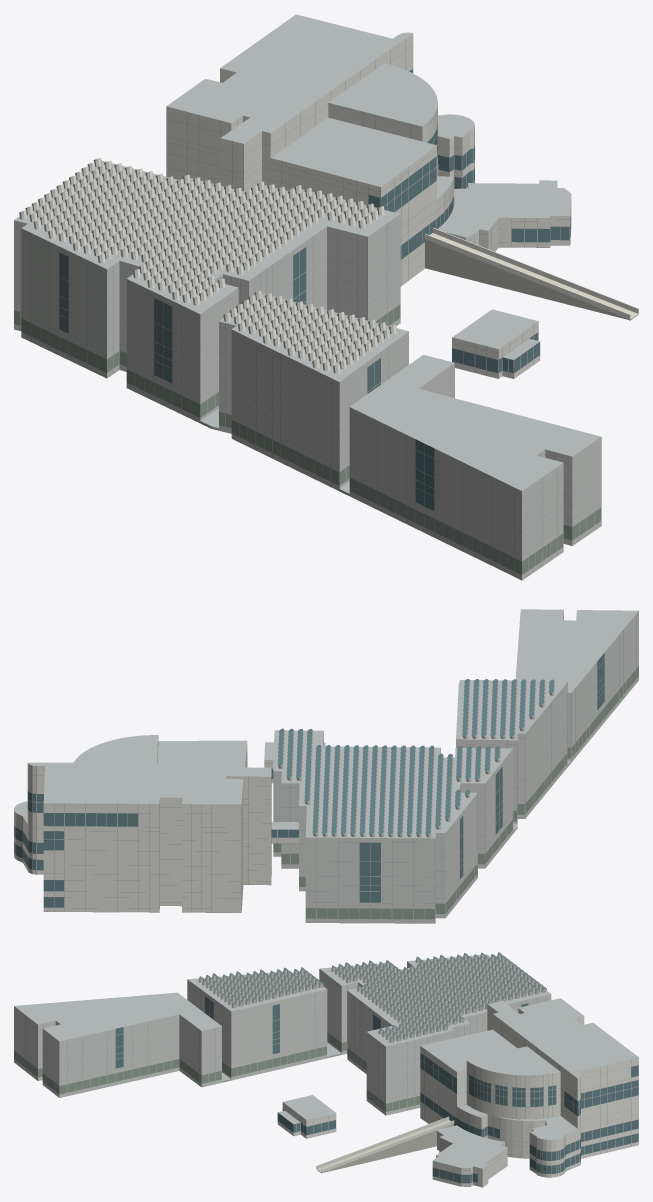
The model's file is high-museum-of-art-near.glb.
The picture shows the model from 3 angles, top to bottom: view 1: azimuth 30°, elevation 25°; view 2: azimuth 150°, elevation 25°; view 3: azimuth 270°, elevation 25°; orthographic projection. The views are drawn at different scales.
Parts seen in each view (by area): view 1: high-museum-of-art-0-aluminum, high-museum-of-art-0-white, high-museum-of-art-0-roof, high-museum-of-art-0-glass, high-museum-of-art-0-glow, high-museum-of-art-0-joint, high-museum-of-art-0-foundation, high-museum-of-art-0-path; view 2: high-museum-of-art-0-roof, high-museum-of-art-0-white, high-museum-of-art-0-aluminum, high-museum-of-art-0-glass, high-museum-of-art-0-joint, high-museum-of-art-0-glow; view 3: high-museum-of-art-0-white, high-museum-of-art-0-aluminum, high-museum-of-art-0-roof, high-museum-of-art-0-glass, high-museum-of-art-0-glow, high-museum-of-art-0-joint, high-museum-of-art-0-foundation, high-museum-of-art-0-path.
Boxes of the visible parts, x1=… form: high-museum-of-art-0-aluminum: x1=14, y1=214, x2=601, y2=579; high-museum-of-art-0-white: x1=19, y1=33, x2=638, y2=378; high-museum-of-art-0-roof: x1=14, y1=14, x2=600, y2=493; high-museum-of-art-0-glass: x1=59, y1=69, x2=570, y2=510; high-museum-of-art-0-glow: x1=14, y1=305, x2=601, y2=574; high-museum-of-art-0-joint: x1=14, y1=38, x2=601, y2=580; high-museum-of-art-0-foundation: x1=200, y1=239, x2=638, y2=495; high-museum-of-art-0-path: x1=430, y1=233, x2=637, y2=318; high-museum-of-art-0-roof: x1=14, y1=609, x2=638, y2=838; high-museum-of-art-0-white: x1=14, y1=681, x2=555, y2=912; high-museum-of-art-0-aluminum: x1=273, y1=611, x2=638, y2=923; high-museum-of-art-0-glass: x1=14, y1=653, x2=604, y2=907; high-museum-of-art-0-joint: x1=15, y1=614, x2=638, y2=923; high-museum-of-art-0-glow: x1=273, y1=666, x2=638, y2=919; high-museum-of-art-0-white: x1=198, y1=952, x2=638, y2=1187; high-museum-of-art-0-aluminum: x1=14, y1=961, x2=551, y2=1115; high-museum-of-art-0-roof: x1=14, y1=954, x2=638, y2=1168; high-museum-of-art-0-glass: x1=115, y1=952, x2=638, y2=1183; high-museum-of-art-0-glow: x1=14, y1=1032, x2=420, y2=1111; high-museum-of-art-0-joint: x1=14, y1=973, x2=638, y2=1187; high-museum-of-art-0-foundation: x1=222, y1=1053, x2=453, y2=1173; high-museum-of-art-0-path: x1=317, y1=1120, x2=450, y2=1172.
Bounding box in the file's own units: 112 × 28 × 180.
